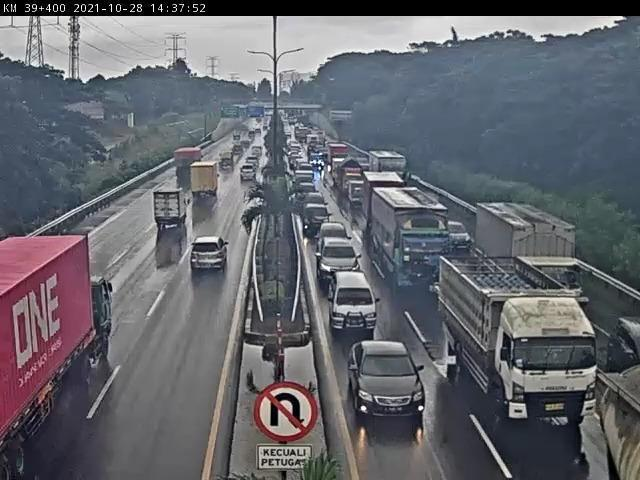Bus: (323, 273, 391, 328)
